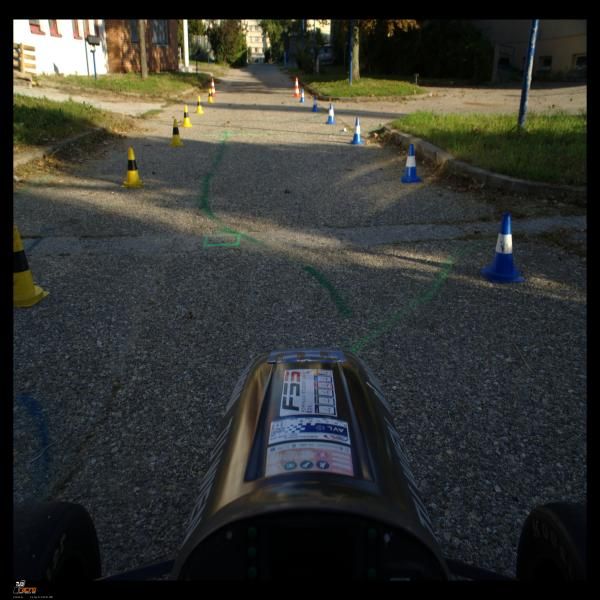blue_cone: (480, 212, 525, 283), (401, 144, 420, 183), (350, 118, 364, 144), (326, 104, 336, 124), (311, 95, 319, 112), (299, 89, 306, 102)
large_orange_cone: (293, 77, 301, 97), (210, 78, 216, 98)
yellow_cone: (13, 226, 50, 308), (121, 147, 145, 188), (169, 119, 184, 147), (180, 105, 193, 127), (195, 96, 204, 113), (207, 88, 214, 104)
